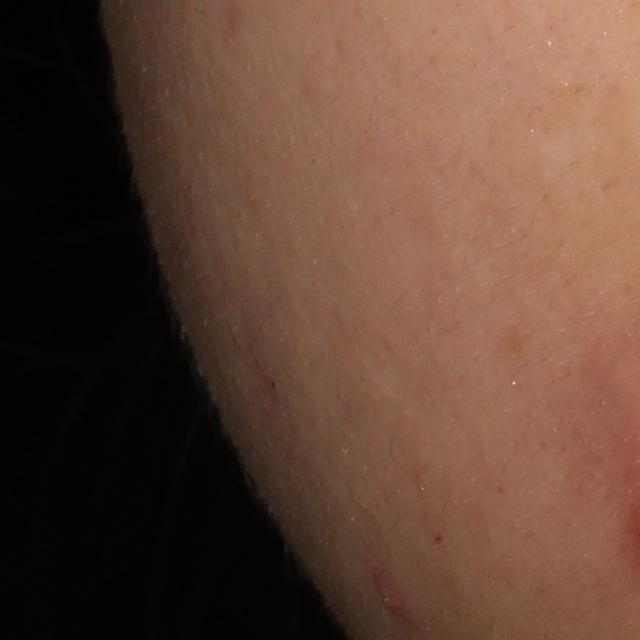papule: (374, 573, 411, 618)
